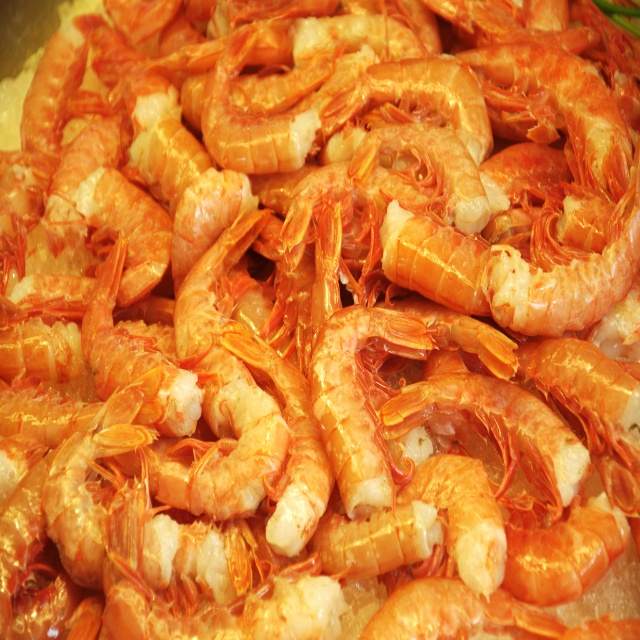Shrimp: (1, 0, 640, 639)
